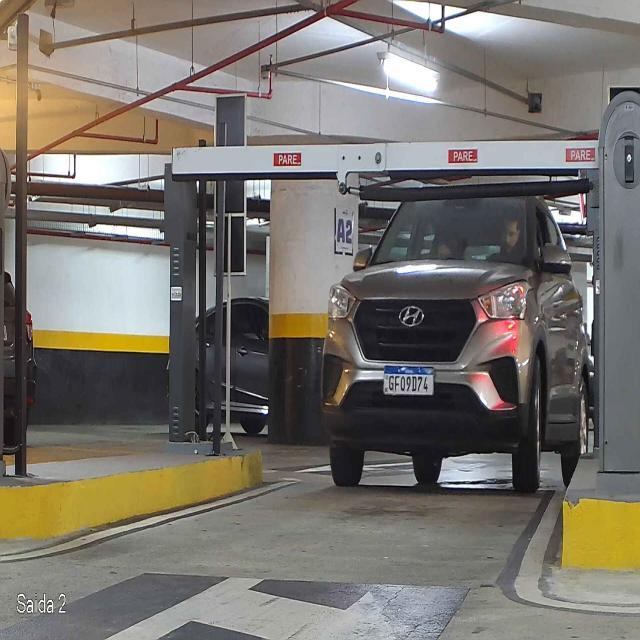mercosul_plate: (382, 364, 436, 398)
